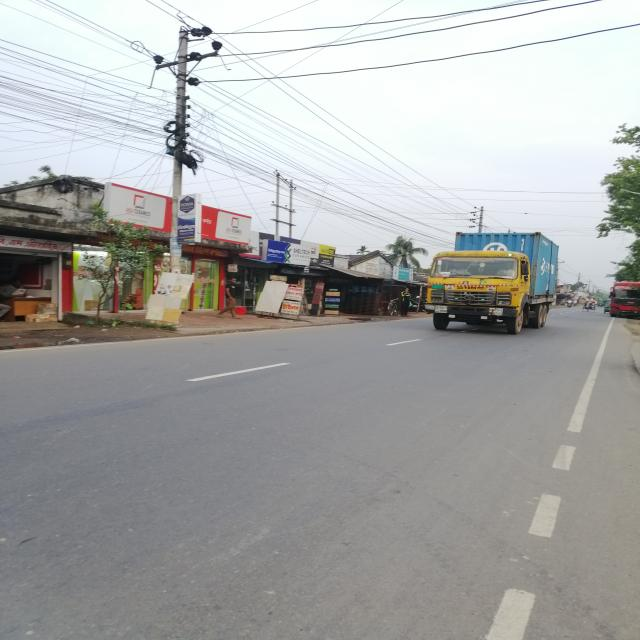Truck: (409, 224, 574, 345)
